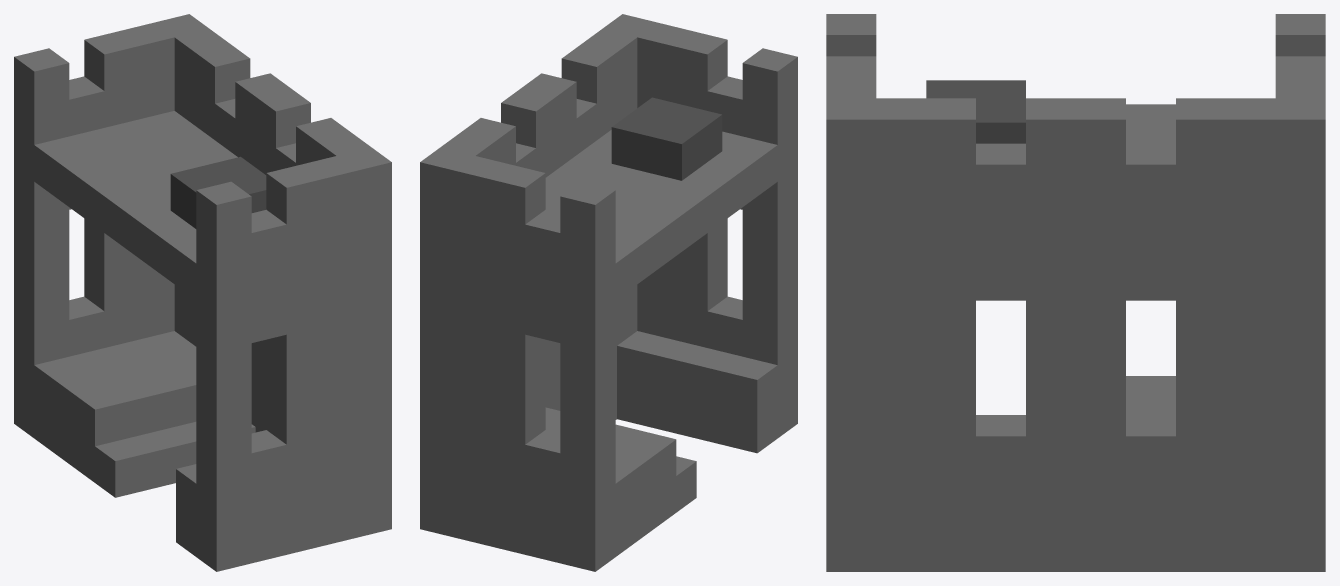
Rendered from building_tower_left.obj.
3 views of the same model, side by side, from view 1: azimuth 30°, elevation 25°; view 2: azimuth 150°, elevation 25°; view 3: azimuth 270°, elevation 25° (orthographic). The views are drawn at different scales.
Bounding box in the file's own units: 5 × 10 × 10.
Materials: 1 (1 with a texture image).
